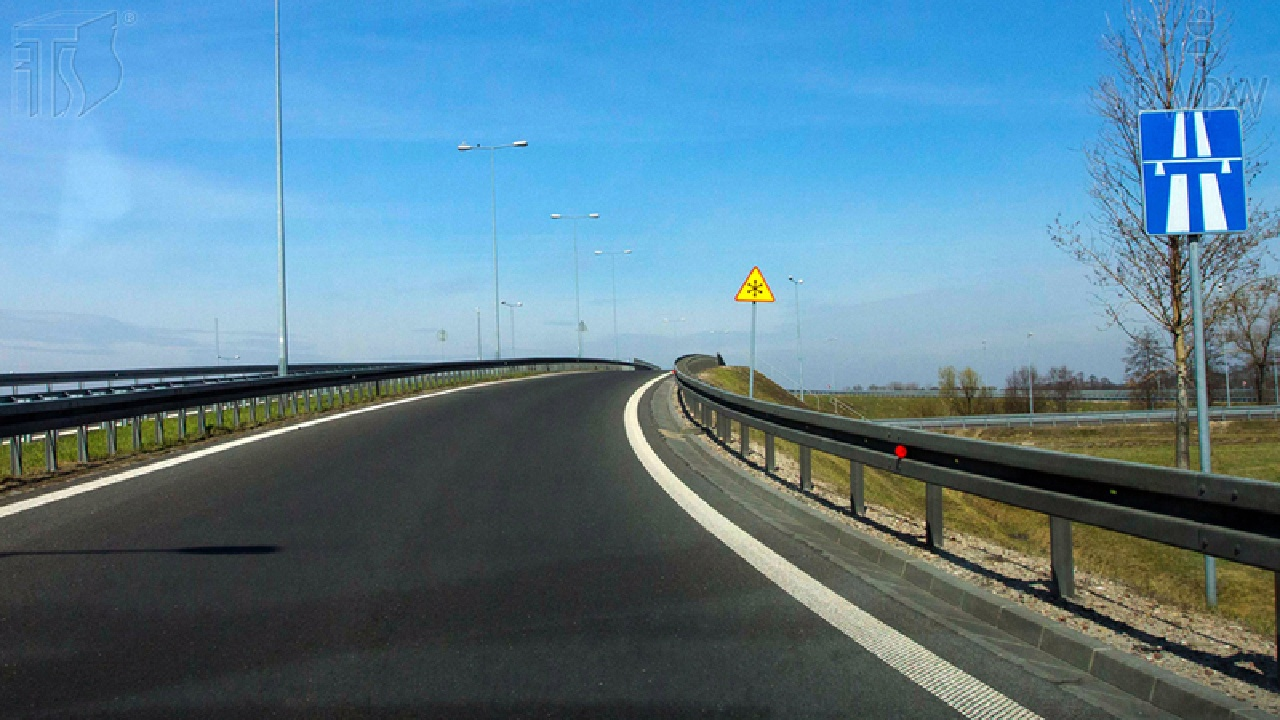A32: (735, 266, 775, 303)
D9: (1138, 110, 1249, 235)
